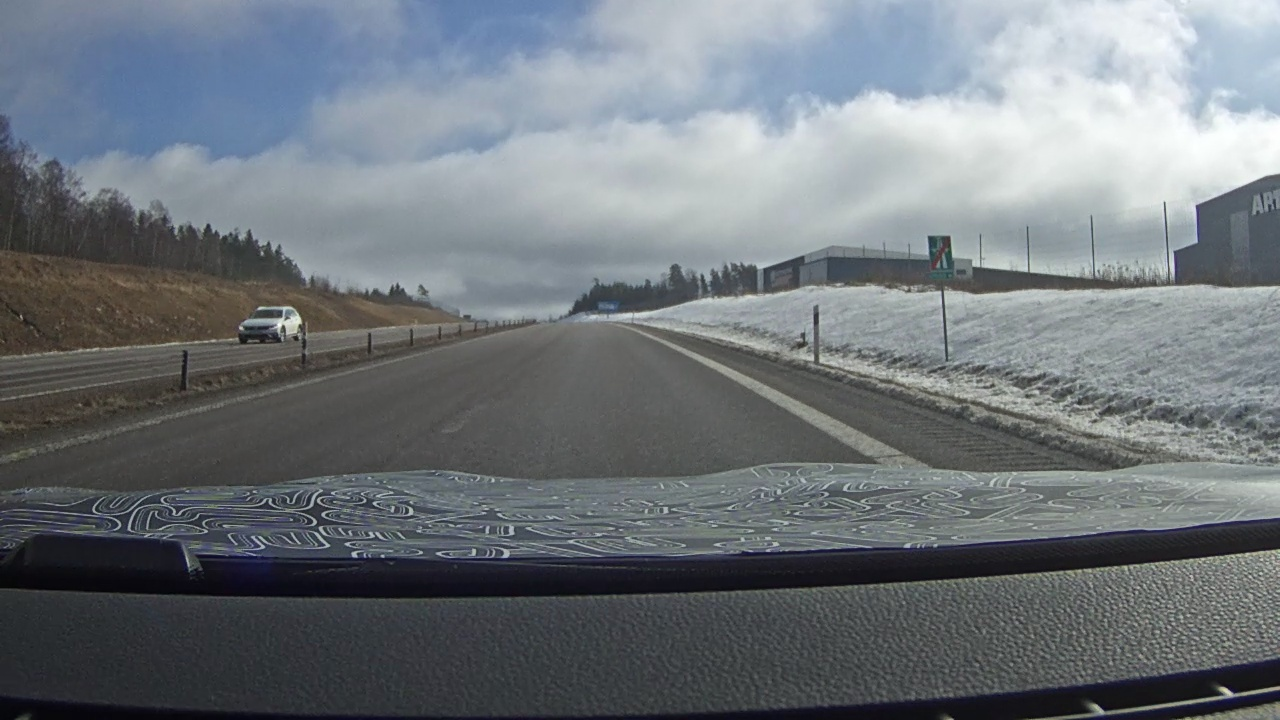Regular_End_Of_Motorway: (930, 235, 953, 271)
